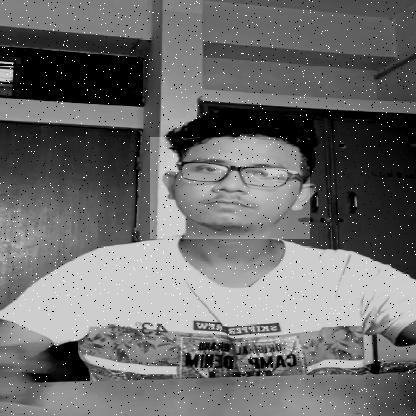Normal: (150, 137, 310, 239)
